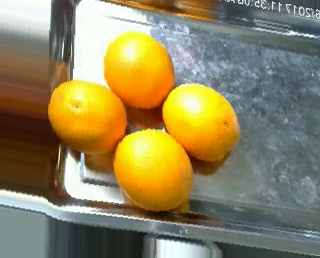Orange: (113, 128, 193, 211), (162, 82, 240, 162), (48, 80, 127, 154), (103, 31, 174, 109)
